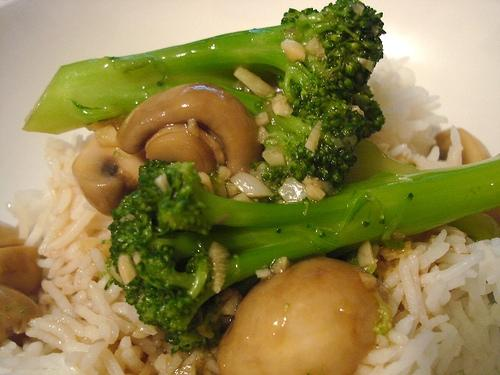broccoli: (105, 153, 498, 352), (23, 1, 387, 204)
mushroom: (217, 257, 380, 375), (116, 82, 264, 177), (72, 137, 150, 217), (1, 284, 40, 346), (0, 245, 45, 296), (434, 128, 493, 164)
